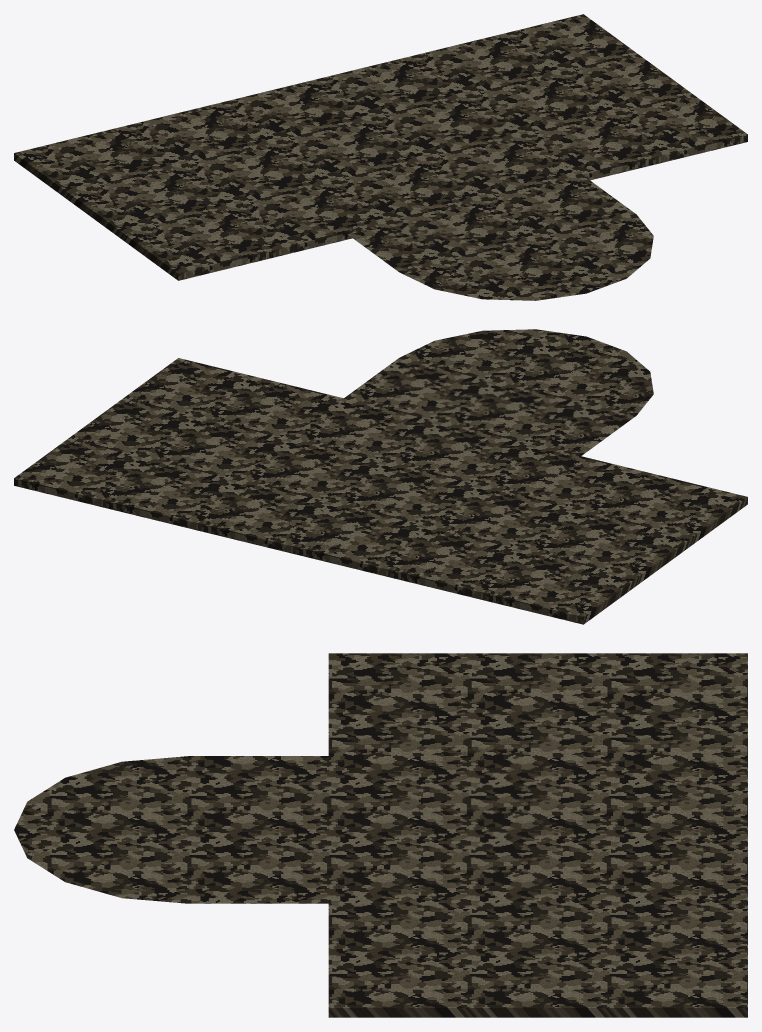
Rendered from PL_Shared_Overlook.fbx.
3 renders of one model, top to bottom at view 1: azimuth 30°, elevation 25°; view 2: azimuth 150°, elevation 25°; view 3: azimuth 270°, elevation 25°, orthographic. The views are drawn at different scales.
Visible parts, largest first — view 1: PL_Overlook, PL_Travel_Final; view 2: PL_Overlook, PL_Travel_Final; view 3: PL_Overlook, PL_Travel_Final.
Boxes of the visible parts, box(x1,y1,x2,y2) form: PL_Overlook: box(14, 14, 747, 280); PL_Travel_Final: box(245, 85, 653, 300); PL_Overlook: box(14, 358, 747, 624); PL_Travel_Final: box(245, 329, 653, 544); PL_Overlook: box(328, 653, 747, 1017); PL_Travel_Final: box(14, 756, 712, 903).
Size of the model in its own units: 2400 by 32.5 by 2100.
Materials: 1 (1 with a texture image).
